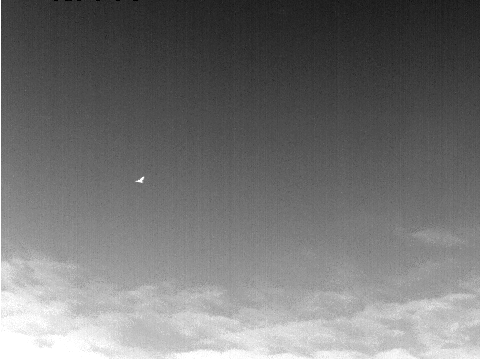dim target: (133, 176, 145, 184)
